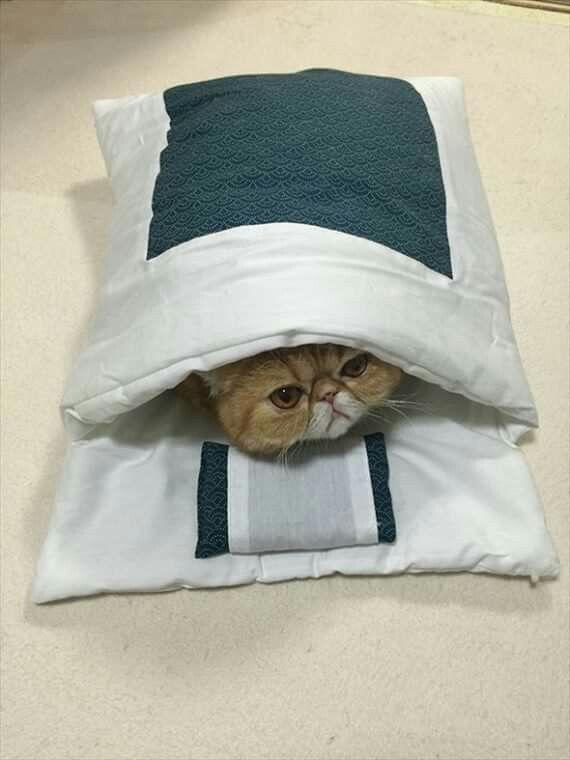kedo: (207, 342, 401, 456)
